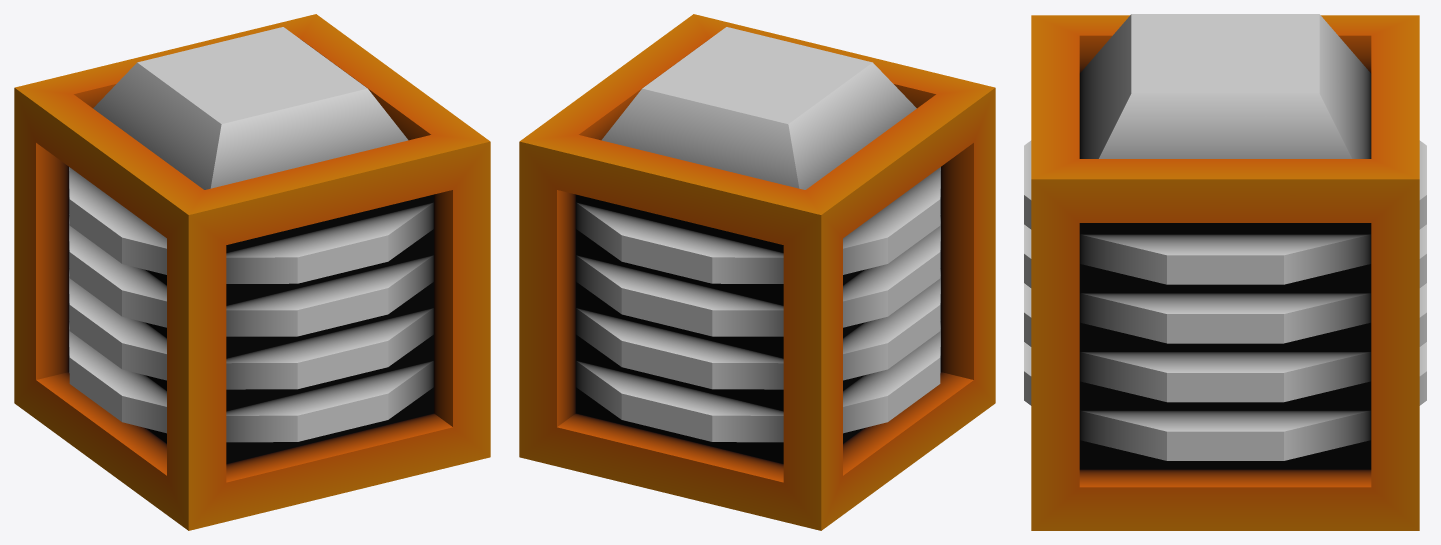
Rendered from Crate1.fbx.
3 renders of one model, left to right at view 1: azimuth 30°, elevation 25°; view 2: azimuth 150°, elevation 25°; view 3: azimuth 270°, elevation 25°, orthographic. The views are drawn at different scales.
Parts seen in each view (by area): view 1: Würfel; view 2: Würfel; view 3: Würfel.
Boxes of the visible parts, <box> form: Würfel: <box>14,14,490,530</box>; Würfel: <box>519,14,995,530</box>; Würfel: <box>1024,14,1426,530</box>.
Size of the model in its own units: 104 by 112 by 104.
